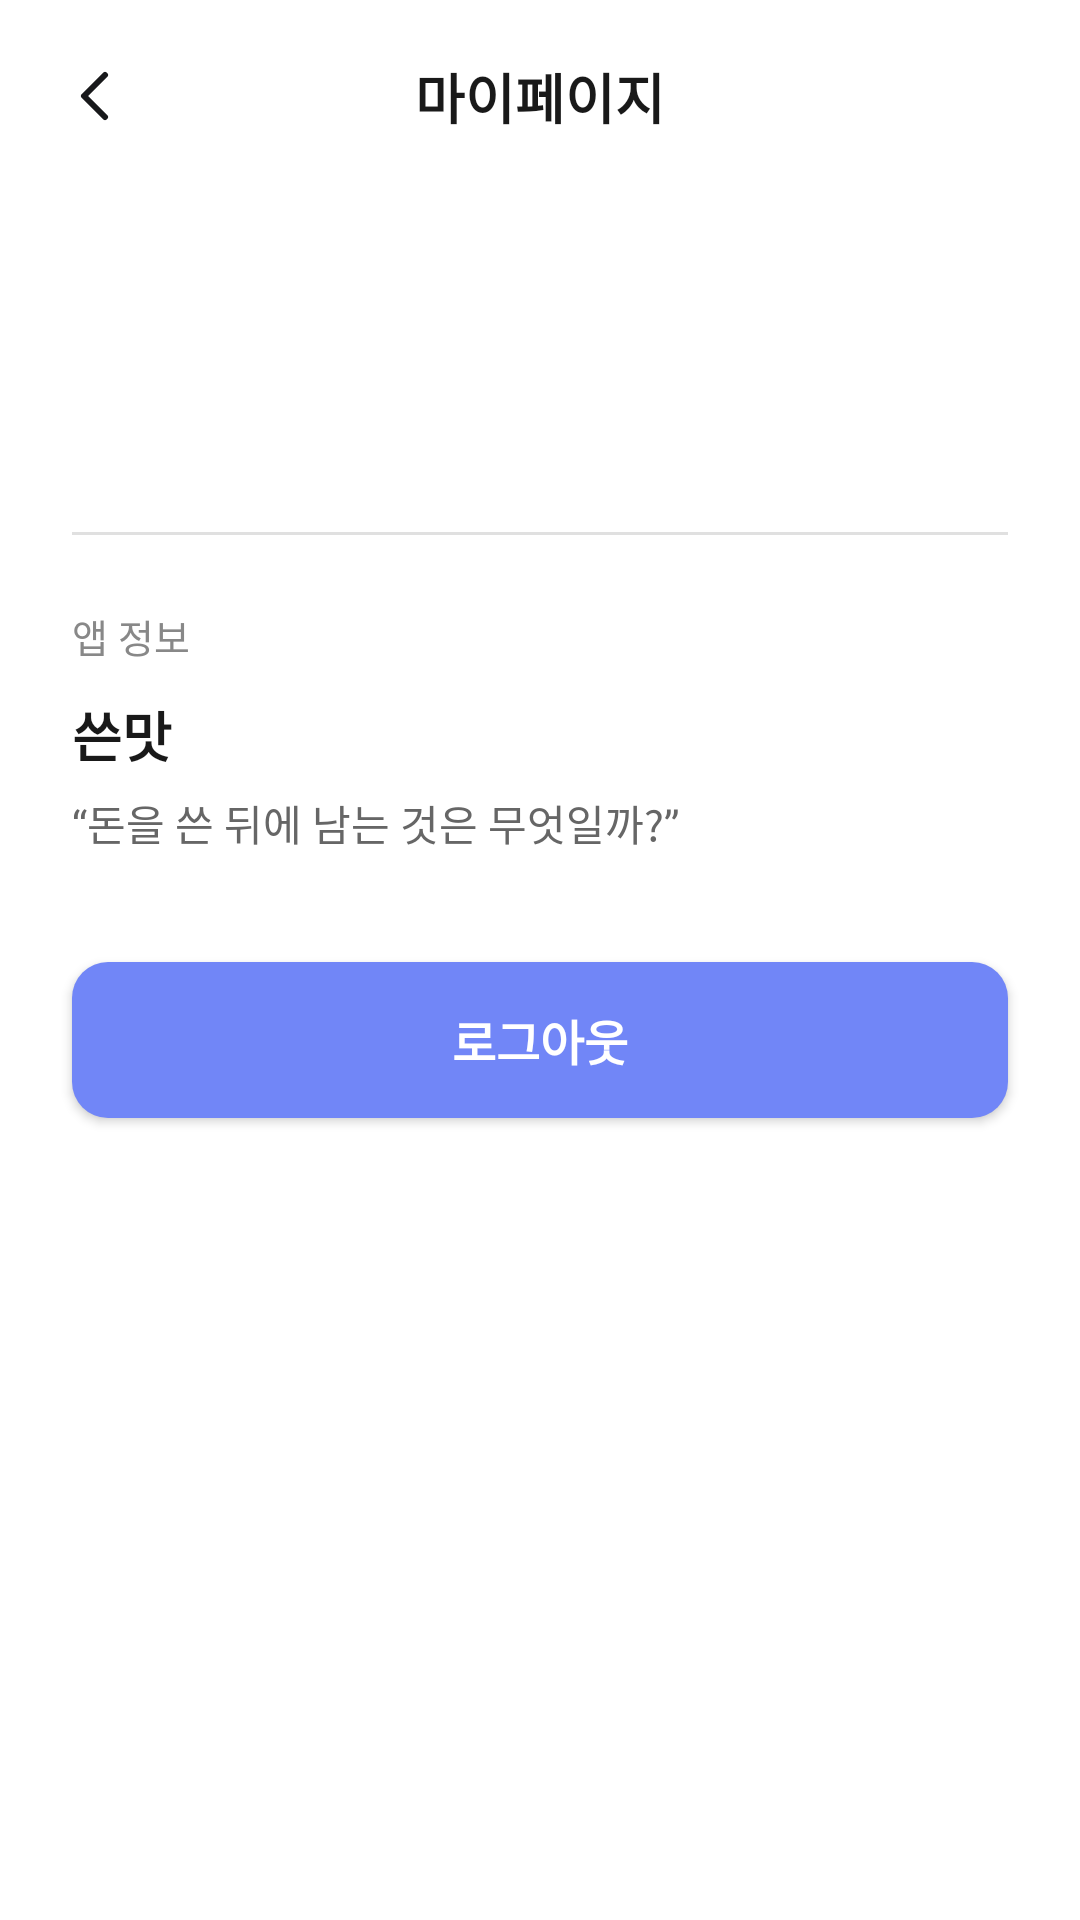

Icons on this 1080 × 1920 Android screen, each with the point to tap as point (x, y):
custom revert: point (94, 96)
